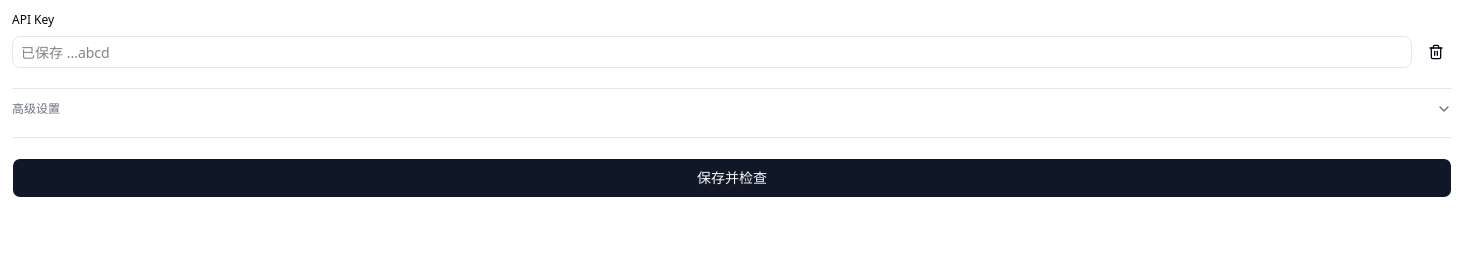
Test case: ProviderConfigFields › reports a completed deletion separately from a rejected real connection check
Click the button named "清除 API Key": (1436, 52) [1420,36,1452,68]
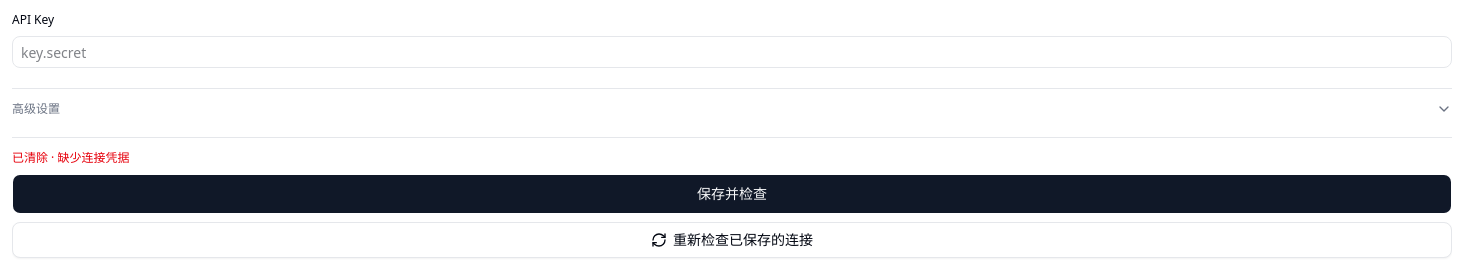
Expected: the password field labelled "API Key" is empty, [12,36,1452,68]
Now the text "已清除 · 缺少连接凭据" is shown, box [12,150,130,166]
